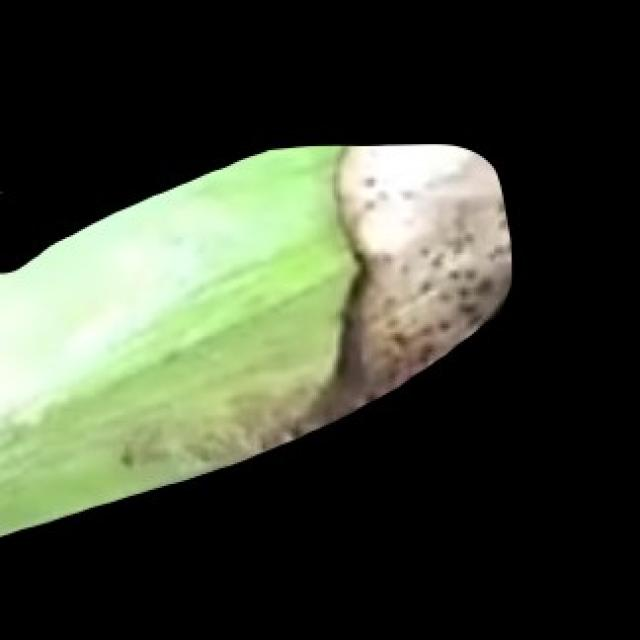mite: (0, 154, 47, 275), (356, 168, 419, 213), (0, 176, 22, 271), (0, 156, 24, 217), (0, 170, 18, 239), (111, 439, 140, 472), (0, 174, 8, 273), (0, 178, 20, 211), (117, 444, 134, 468), (427, 251, 444, 269), (361, 172, 375, 190), (0, 168, 6, 207), (0, 184, 6, 203)
